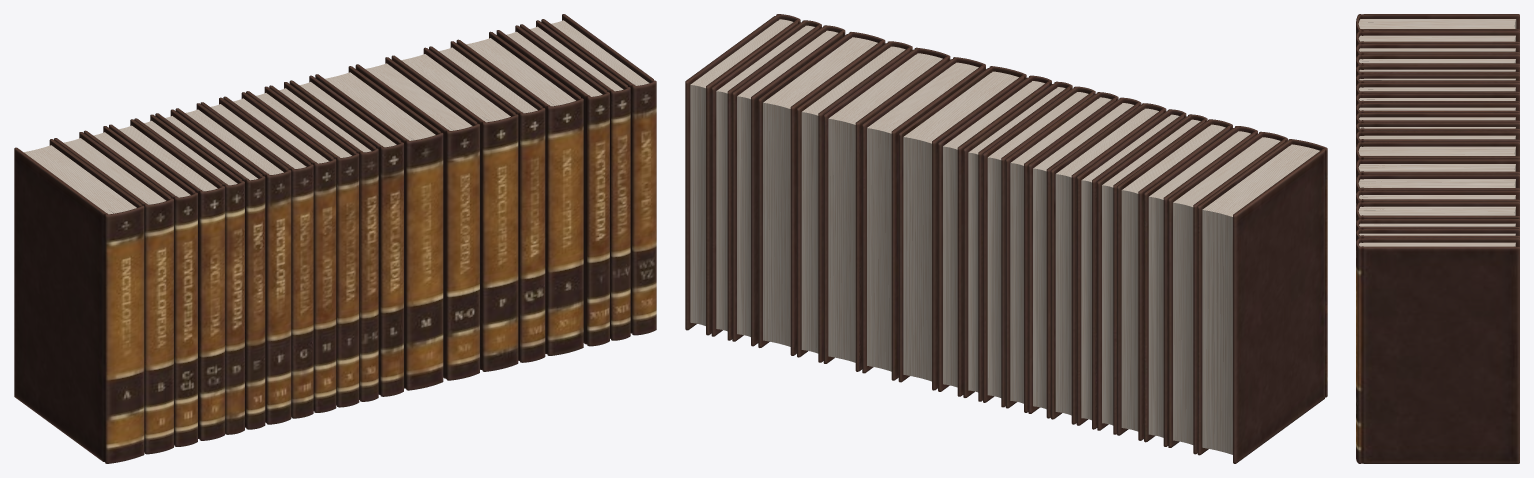
Rendered from book_encyclopedia_set_01.glb.
3 views of the same model, side by side, from view 1: azimuth 30°, elevation 25°; view 2: azimuth 150°, elevation 25°; view 3: azimuth 270°, elevation 25° (orthographic). The views are drawn at different scales.
Visible parts, largest first — view 1: book_encyclopedia_set_01_book01_mesh, book_encyclopedia_set_01_book13_mesh, book_encyclopedia_set_01_book15_mesh, book_encyclopedia_set_01_book17_mesh, book_encyclopedia_set_01_book14_mesh, book_encyclopedia_set_01_book02_mesh, book_encyclopedia_set_01_book16_mesh, book_encyclopedia_set_01_book04_mesh, book_encyclopedia_set_01_book18_mesh, book_encyclopedia_set_01_book20_mesh, book_encyclopedia_set_01_book07_mesh, book_encyclopedia_set_01_book12_mesh (+8 smaller); view 2: book_encyclopedia_set_01_book01_mesh, book_encyclopedia_set_01_book13_mesh, book_encyclopedia_set_01_book15_mesh, book_encyclopedia_set_01_book17_mesh, book_encyclopedia_set_01_book14_mesh, book_encyclopedia_set_01_book02_mesh, book_encyclopedia_set_01_book04_mesh, book_encyclopedia_set_01_book16_mesh, book_encyclopedia_set_01_book18_mesh, book_encyclopedia_set_01_book20_mesh, book_encyclopedia_set_01_book07_mesh, book_encyclopedia_set_01_book12_mesh (+8 smaller); view 3: book_encyclopedia_set_01_book20_mesh, book_encyclopedia_set_01_book17_mesh, book_encyclopedia_set_01_book13_mesh, book_encyclopedia_set_01_book01_mesh, book_encyclopedia_set_01_book15_mesh, book_encyclopedia_set_01_book14_mesh, book_encyclopedia_set_01_book02_mesh, book_encyclopedia_set_01_book16_mesh, book_encyclopedia_set_01_book03_mesh, book_encyclopedia_set_01_book12_mesh, book_encyclopedia_set_01_book07_mesh, book_encyclopedia_set_01_book04_mesh (+8 smaller).
Boxes of the visible parts, x1,y1,x2,y2 form: book_encyclopedia_set_01_book01_mesh: (14,139,144,463); book_encyclopedia_set_01_book13_mesh: (315,66,443,390); book_encyclopedia_set_01_book15_mesh: (391,47,518,371); book_encyclopedia_set_01_book17_mesh: (456,31,583,355); book_encyclopedia_set_01_book14_mesh: (355,57,479,380); book_encyclopedia_set_01_book02_mesh: (54,132,173,454); book_encyclopedia_set_01_book16_mesh: (429,41,545,362); book_encyclopedia_set_01_book04_mesh: (109,119,224,440); book_encyclopedia_set_01_book18_mesh: (496,25,609,346); book_encyclopedia_set_01_book20_mesh: (541,14,656,335); book_encyclopedia_set_01_book07_mesh: (175,103,291,424); book_encyclopedia_set_01_book12_mesh: (289,75,403,396); book_encyclopedia_set_01_book01_mesh: (1197,139,1327,463); book_encyclopedia_set_01_book13_mesh: (898,66,1026,390); book_encyclopedia_set_01_book15_mesh: (823,47,950,371); book_encyclopedia_set_01_book17_mesh: (758,32,885,355); book_encyclopedia_set_01_book14_mesh: (862,57,985,380); book_encyclopedia_set_01_book02_mesh: (1168,131,1287,454); book_encyclopedia_set_01_book04_mesh: (1117,119,1232,440); book_encyclopedia_set_01_book16_mesh: (797,41,912,362); book_encyclopedia_set_01_book18_mesh: (732,25,845,346); book_encyclopedia_set_01_book20_mesh: (685,14,800,335); book_encyclopedia_set_01_book07_mesh: (1051,103,1166,424); book_encyclopedia_set_01_book12_mesh: (938,75,1051,396); book_encyclopedia_set_01_book20_mesh: (1356,238,1519,463); book_encyclopedia_set_01_book17_mesh: (1356,202,1519,232); book_encyclopedia_set_01_book13_mesh: (1356,142,1519,165); book_encyclopedia_set_01_book01_mesh: (1356,14,1519,35); book_encyclopedia_set_01_book15_mesh: (1356,174,1519,194); book_encyclopedia_set_01_book14_mesh: (1356,159,1519,180); book_encyclopedia_set_01_book02_mesh: (1356,30,1519,47); book_encyclopedia_set_01_book16_mesh: (1356,190,1519,208); book_encyclopedia_set_01_book03_mesh: (1356,43,1519,58); book_encyclopedia_set_01_book12_mesh: (1356,131,1519,149); book_encyclopedia_set_01_book07_mesh: (1356,82,1519,96); book_encyclopedia_set_01_book04_mesh: (1356,54,1519,68).
Bounding box in the file's own units: 0.5513 × 0.2374 × 0.1631.
Materials: 2 (2 with a texture image).
